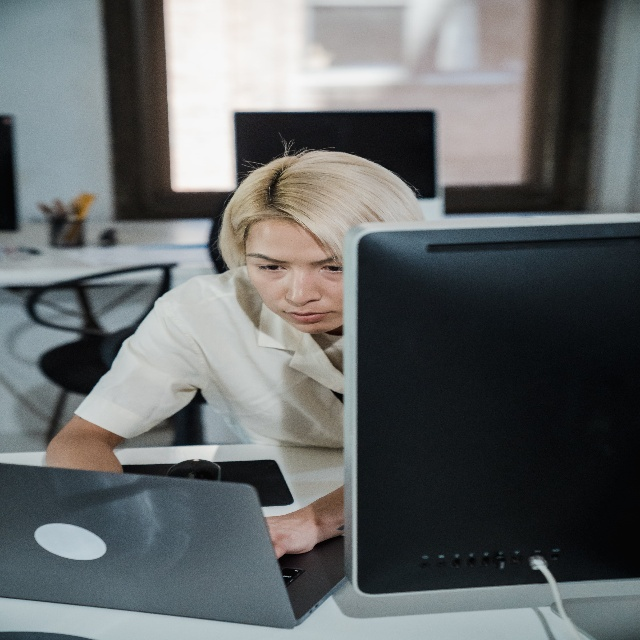Sin_guantes: (266, 505, 321, 553)
